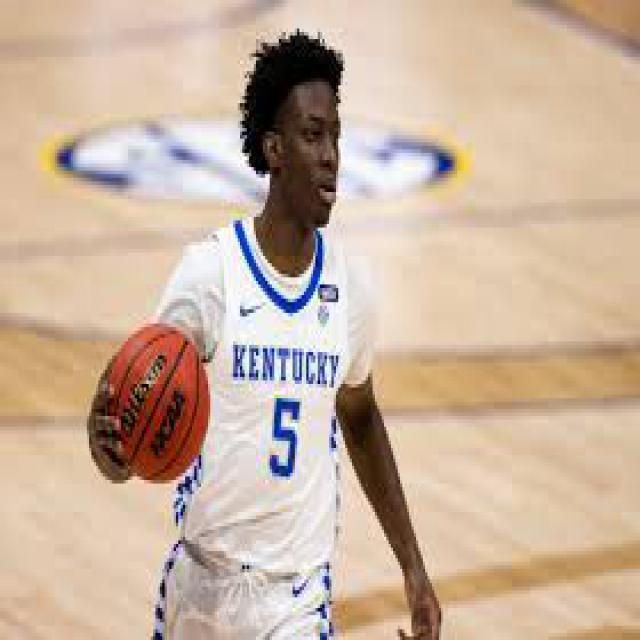basketball: (105, 327, 210, 484)
